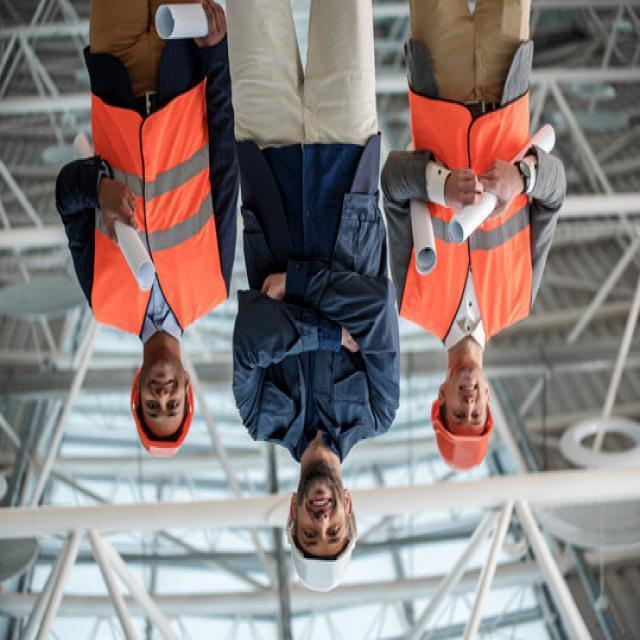safetyhelmet: (286, 515, 356, 591), (131, 371, 193, 456), (431, 400, 493, 471)
